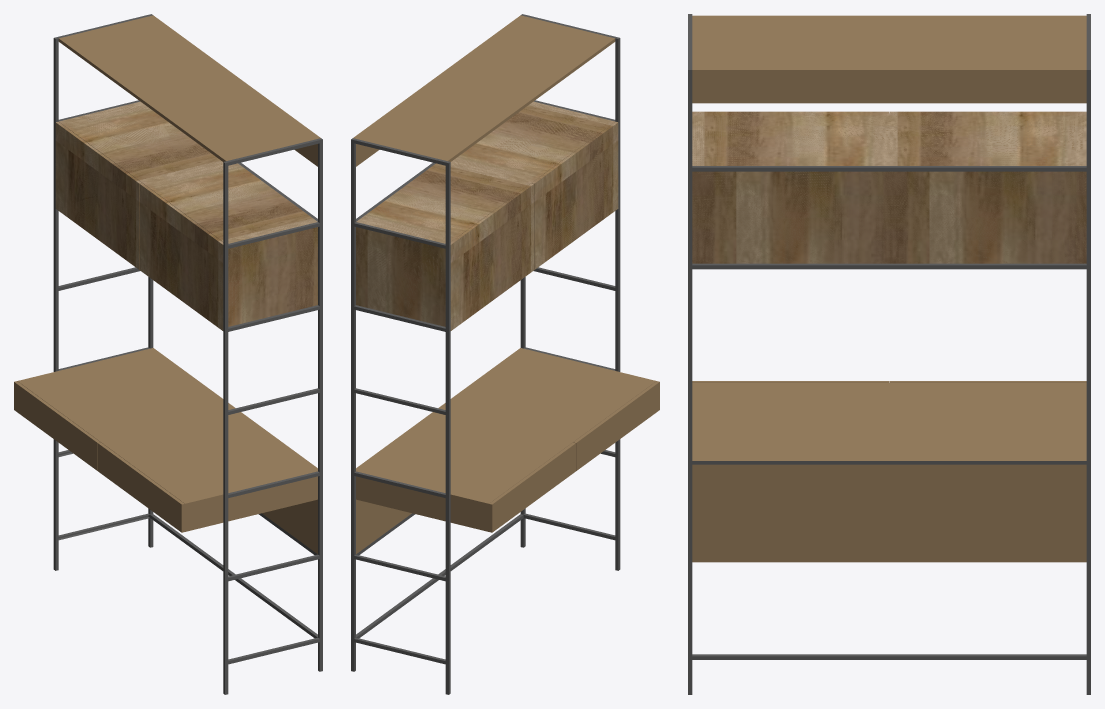
Rendered from IndustrialStorageModularSystem49DeskWestElm.fbx.
The picture shows the model from 3 angles, left to right: view 1: azimuth 30°, elevation 25°; view 2: azimuth 150°, elevation 25°; view 3: azimuth 270°, elevation 25°; orthographic projection. The views are drawn at different scales.
Parts seen in each view (by area): view 1: SketchUp.004, SketchUp.005; view 2: SketchUp.004, SketchUp.005; view 3: SketchUp.004, SketchUp.005.
Boxes of the visible parts, x1,y1,x2,y2 form: SketchUp.004: [14, 15, 320, 553]; SketchUp.005: [53, 14, 322, 694]; SketchUp.004: [353, 15, 659, 553]; SketchUp.005: [351, 14, 620, 694]; SketchUp.004: [692, 15, 1086, 562]; SketchUp.005: [688, 14, 1090, 694].
Bounding box in the file's own units: 58.4 × 213 × 124.
